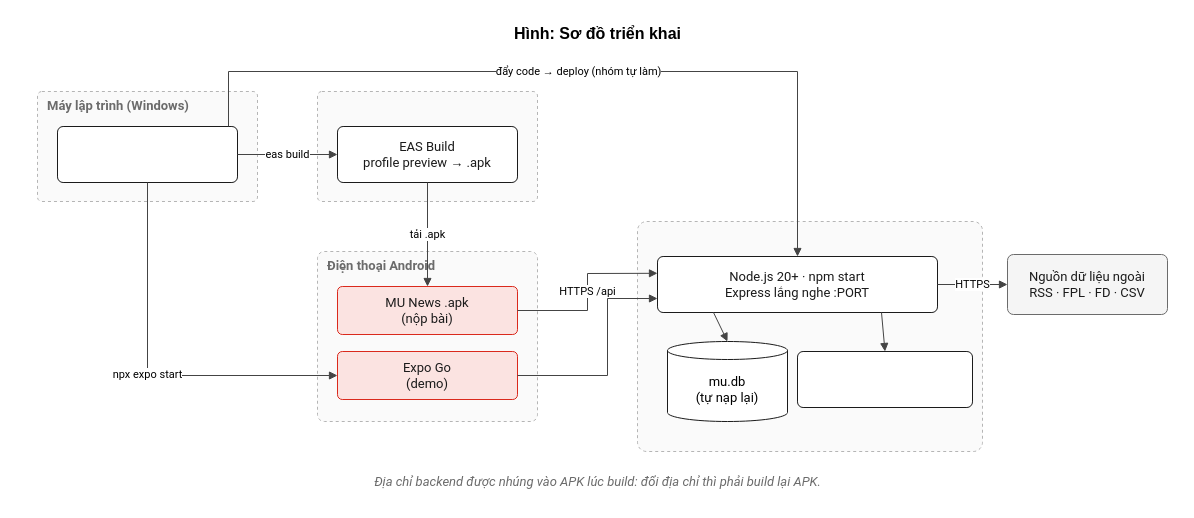
Image size: 1194x518. Some labels were removed from this diagram. Each missing label, with the box of its shape:
Biến môi trường FOOTBALL_DATA_TOKEN: (796, 350, 972, 408)
Expo (đám mây): (316, 90, 538, 202)
Hosting (Render hoặc tương tự): (636, 220, 982, 452)
Mã nguồn backend/ + mu-news-app/: (56, 126, 238, 182)
